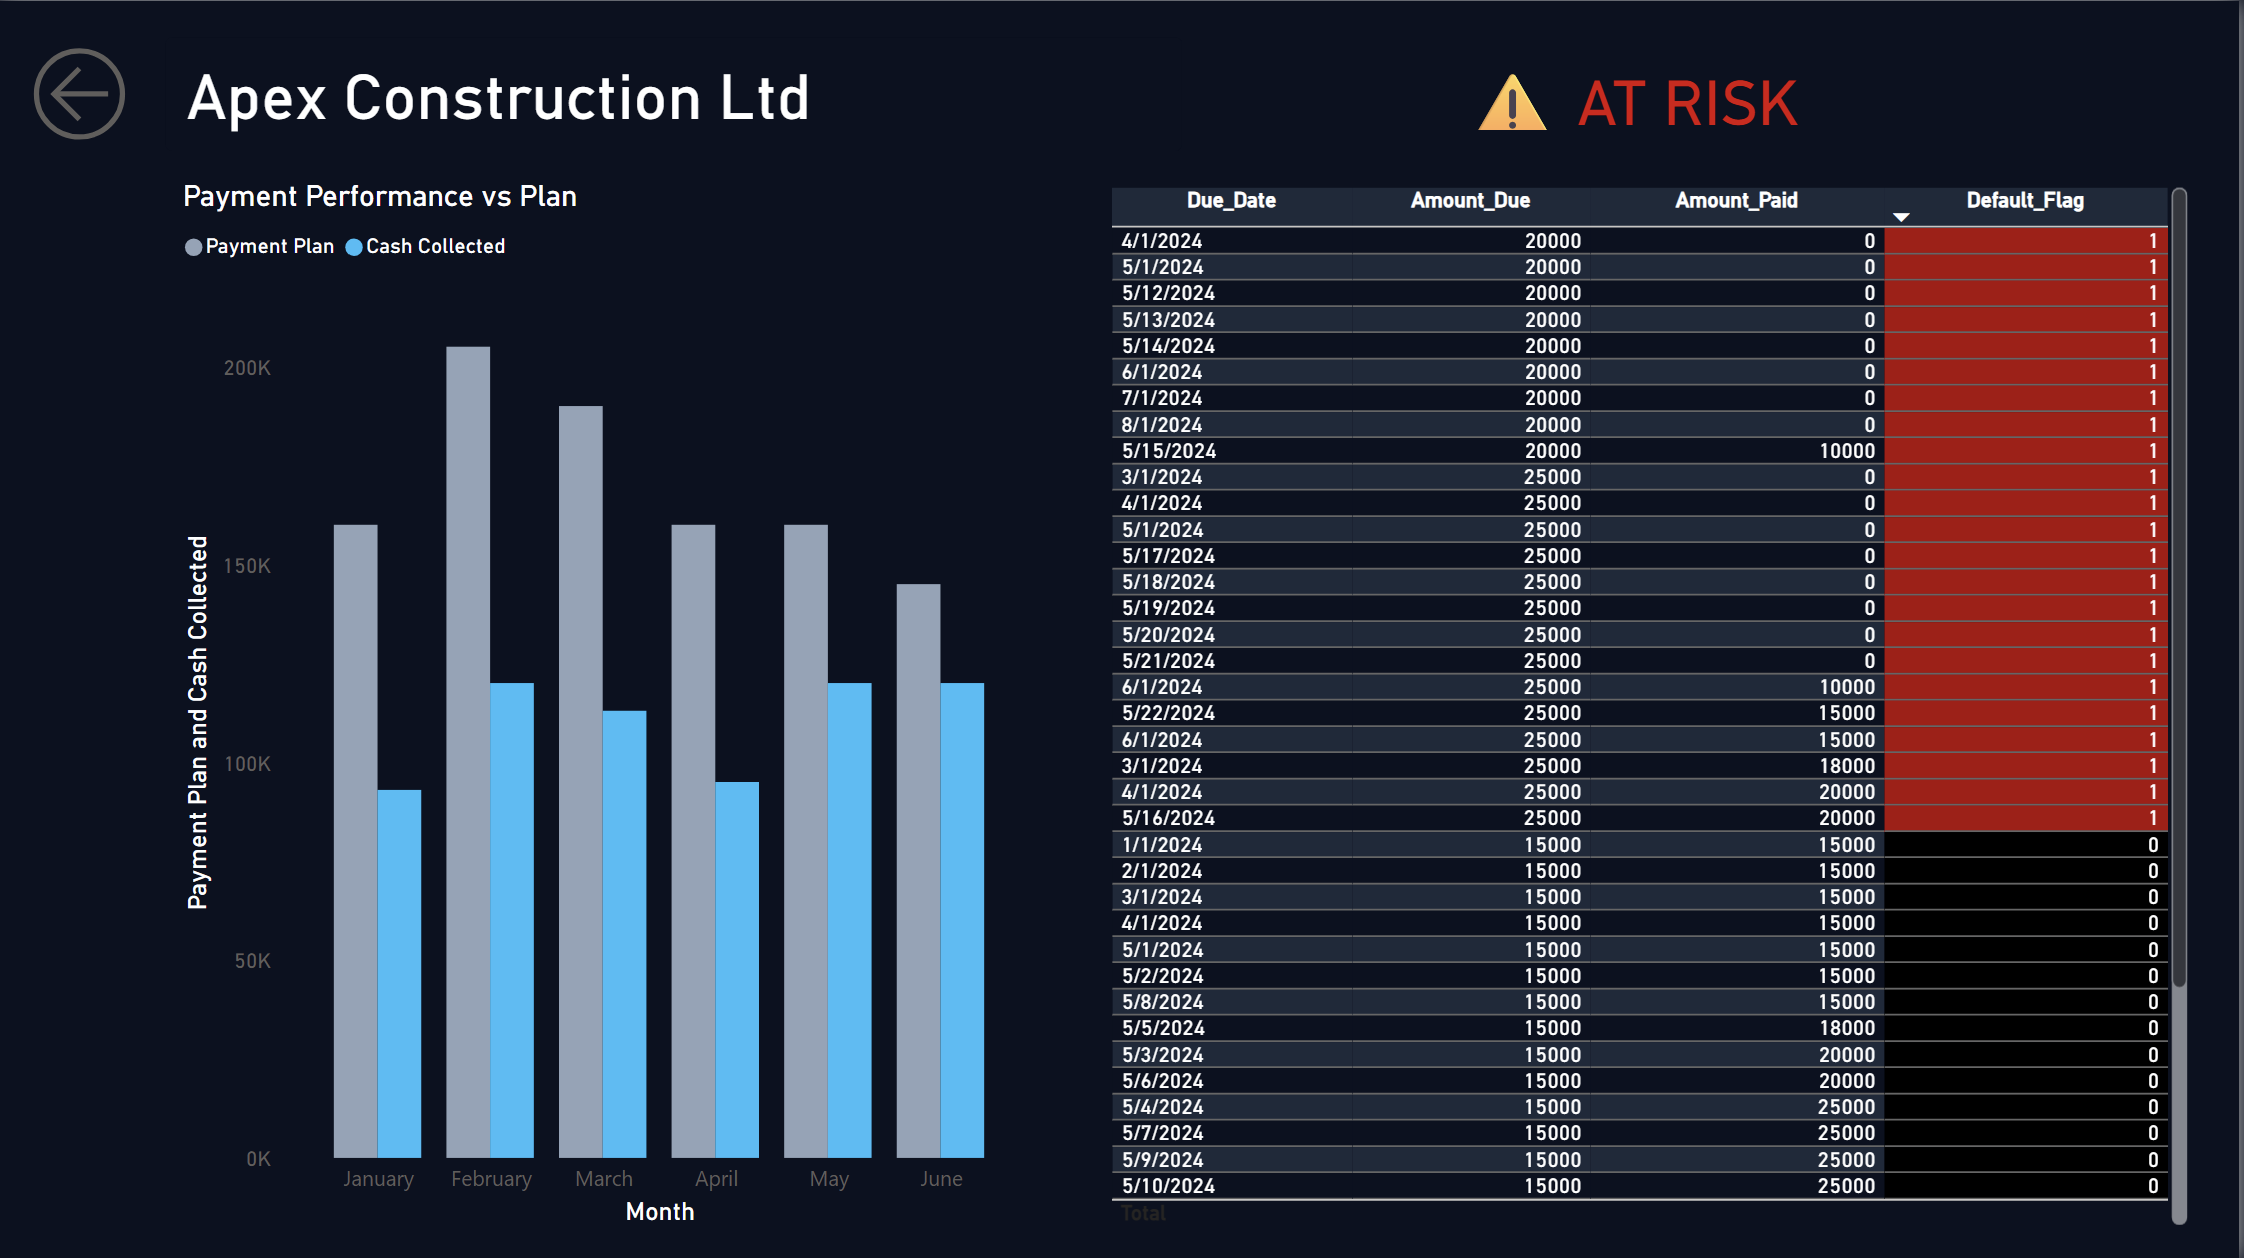

This screenshot's page, from the dashboard's own definition file:
{"tool":"powerbi","page":{"name":"Case_File","canvas":[1280,720],"ordinal":1},"visuals":[{"type":"actionButton","box":[0,0,100.6,66.1],"z":0},{"type":"cardVisual","fields":{"Data":["Min(Dim_Companies.Company_Name)"]},"box":[100.5,15,591,75],"z":1000},{"type":"cardVisual","fields":{"Data":["_Key Measures.Case Status Text"]},"box":[811.7,15,322.2,75.7],"z":2000},{"type":"clusteredColumnChart","title":"Payment Performance vs Plan","fields":{"Category":["Date Table.Date.Variation.Date Hierarchy.Month"],"Y":["Sum(Fact_Installments.Amount_Due)","Sum(Fact_Installments.Amount_Paid)"]},"box":[100.5,102,495,603],"z":3000},{"type":"tableEx","fields":{"Values":["Fact_Installments.Due_Date","Fact_Installments.Amount_Due","Fact_Installments.Amount_Paid","Fact_Installments.Is_Default_Flag"]},"box":[630,102,625.5,603],"z":4000}]}

Visuals, with their boxes in screenshot pixels (x1, y1, x2, y2), scaled from the page's 1280x720 canvas onto the 2244x1258 screenshot:
actionButton: {"left": 0, "top": 0, "right": 176, "bottom": 115}
cardVisual - Min(Dim_Companies.Company_Name): {"left": 176, "top": 26, "right": 1212, "bottom": 157}
cardVisual - _Key Measures.Case Status Text: {"left": 1423, "top": 26, "right": 1988, "bottom": 158}
"Payment Performance vs Plan" clusteredColumnChart: {"left": 176, "top": 178, "right": 1044, "bottom": 1232}
tableEx - Fact_Installments.Due_Date x Fact_Installments.Amount_Due: {"left": 1104, "top": 178, "right": 2201, "bottom": 1232}
